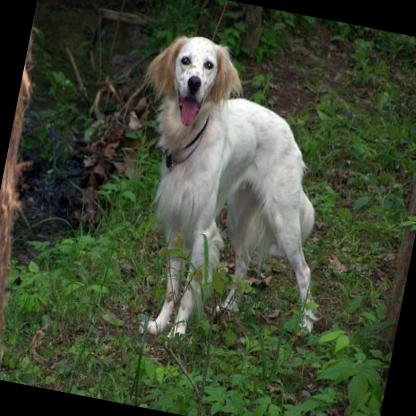English_setter: (93, 20, 372, 372)
